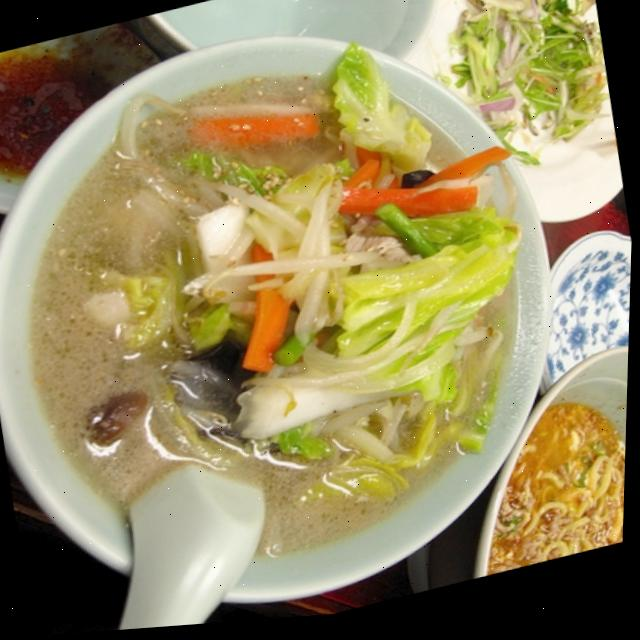面条主食: (0, 0, 584, 639)
